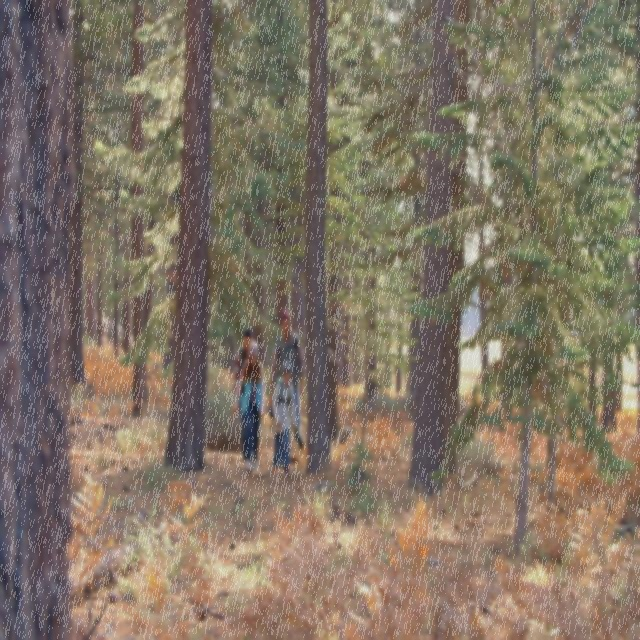pessoa: (270, 310, 306, 450), (232, 338, 266, 474), (268, 358, 298, 478), (234, 324, 254, 471)
